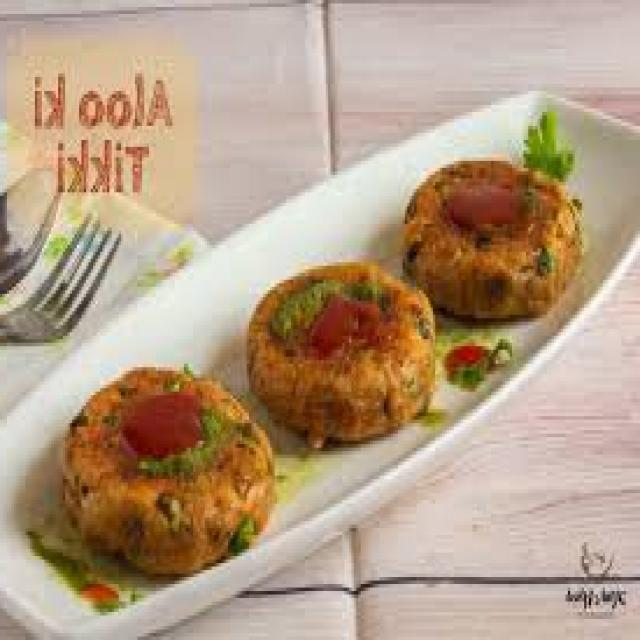Aloo Tikki: (61, 366, 273, 576), (245, 262, 434, 446), (403, 159, 580, 323)
